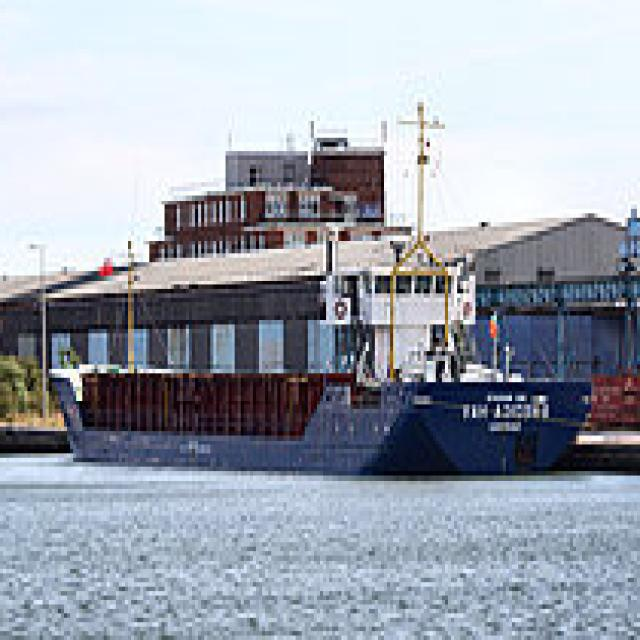Cargo: (49, 324, 597, 476)
